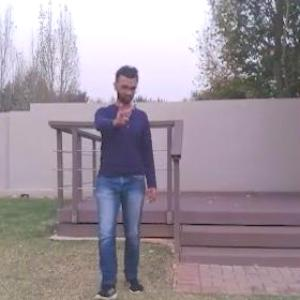takeoff-hand: (107, 96, 131, 128)
